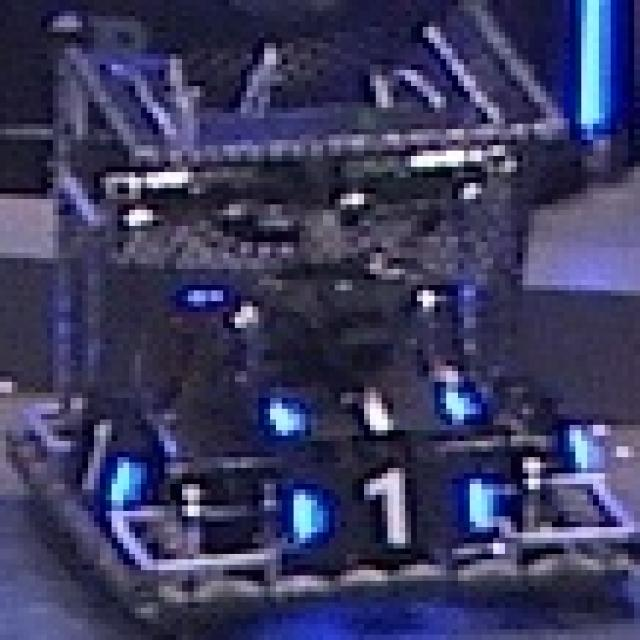B1: (282, 462, 499, 548)
